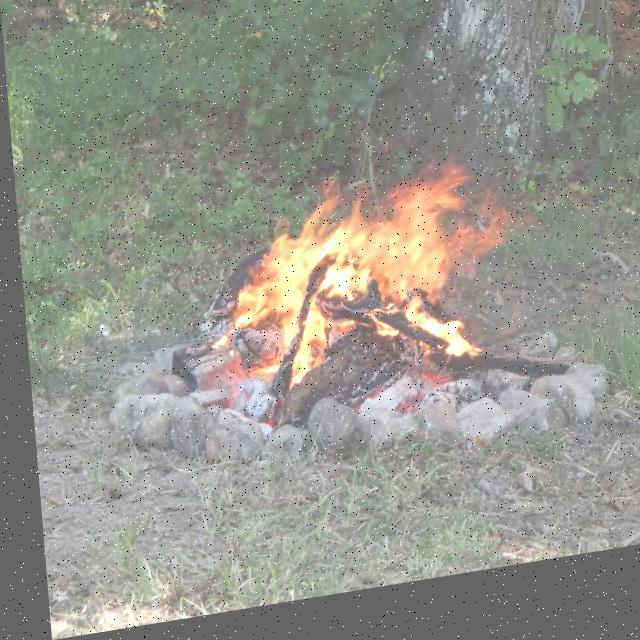Fire: (209, 164, 539, 410)
